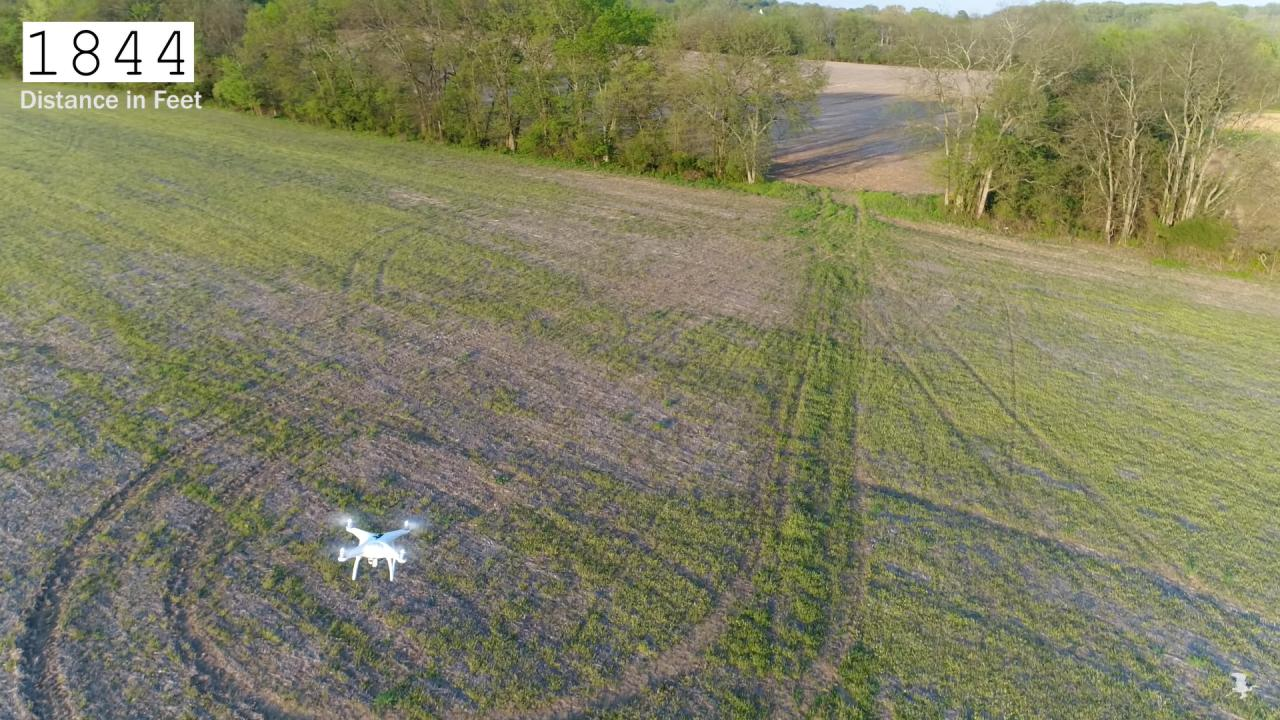Drone: (308, 499, 447, 593)
